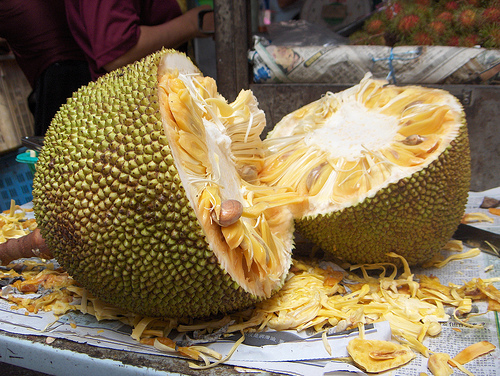jackfruit: (35, 48, 470, 329)
